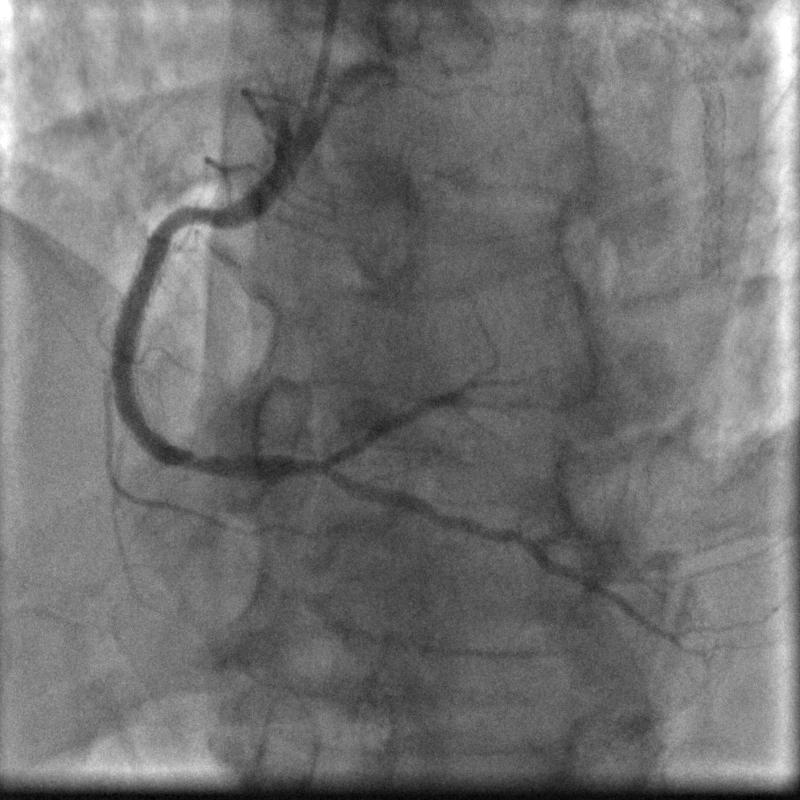Stenosis: (177, 198, 224, 239)
